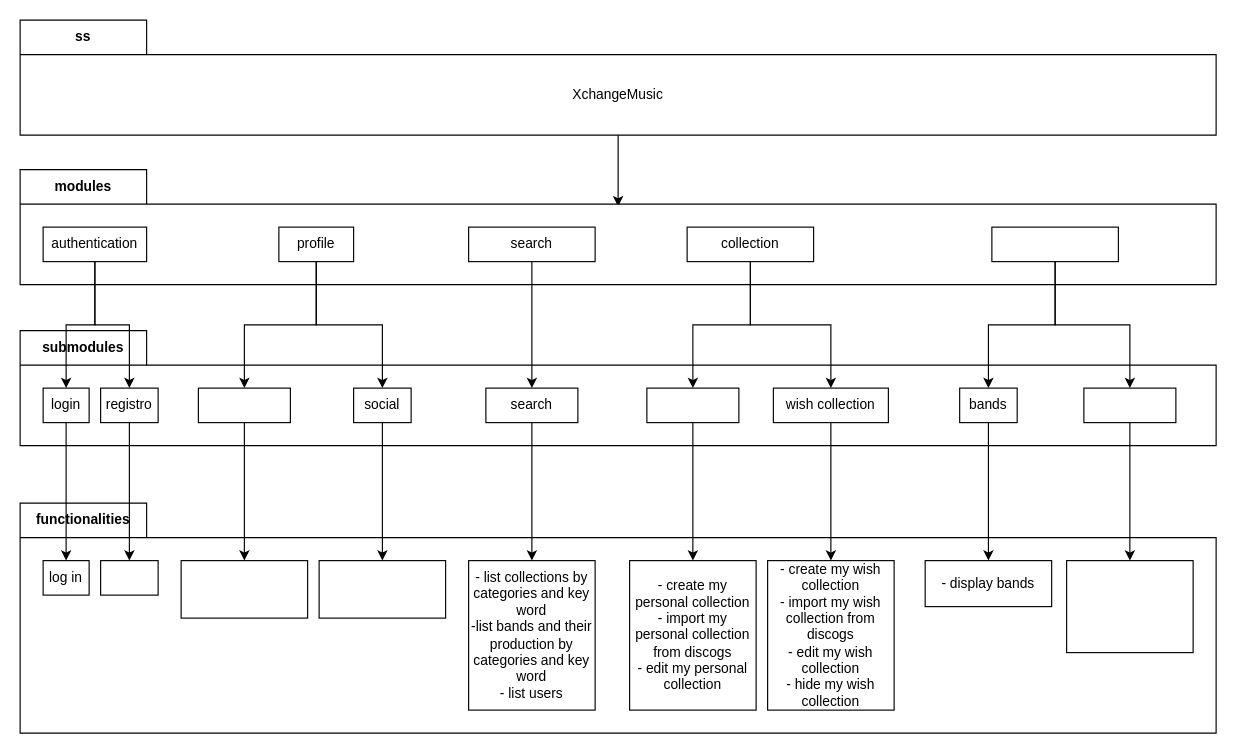
Image size: 1236x753. Some labels were removed from this diagram. The shapes that lost their labels are listed below. From the top down, each one's centre as x and y in pixels, then its label:
At [1054,244]: "music production".
At [243,405]: "configuration".
At [692,405]: "personal collection".
At [1129,405]: "productions".
At [128,577]: "sign up".
At [244,588]: "- change location - drop account".
At [382,588]: "- message other users".
At [1129,606]: "- display productions - add productions to collections".
